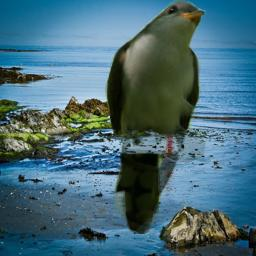Cuckoo: (105, 0, 206, 234)
